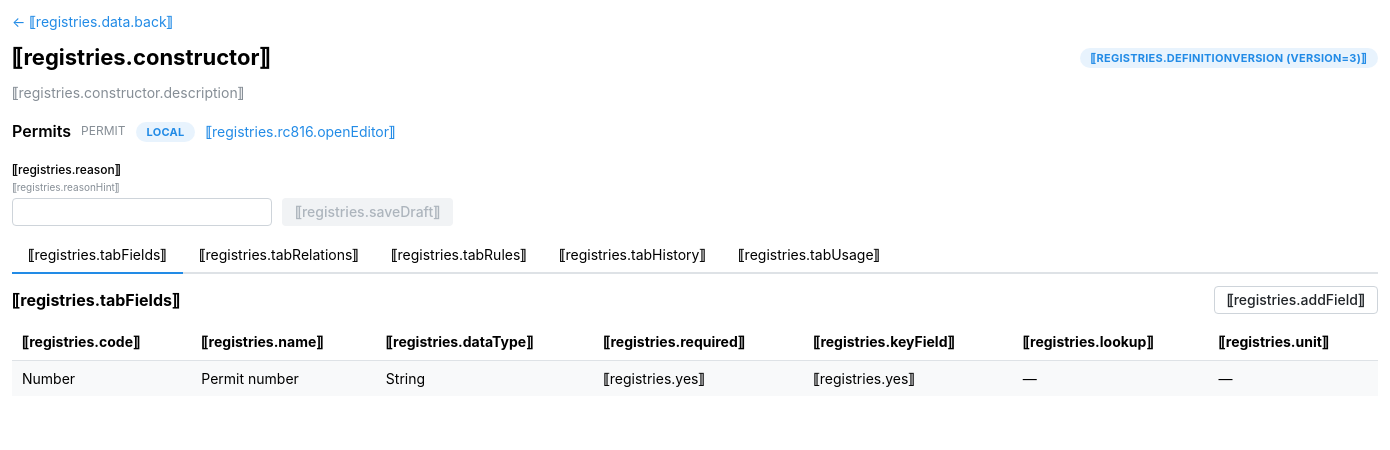
Test: RegistryConstructorPage: вкладки › історія й «де використано» мають коротке пояснення, порожні зв'язки — що робити
Click the tab "⟦registries.tabRelations⟧".
click(279, 256)  # box [183,238,375,274]
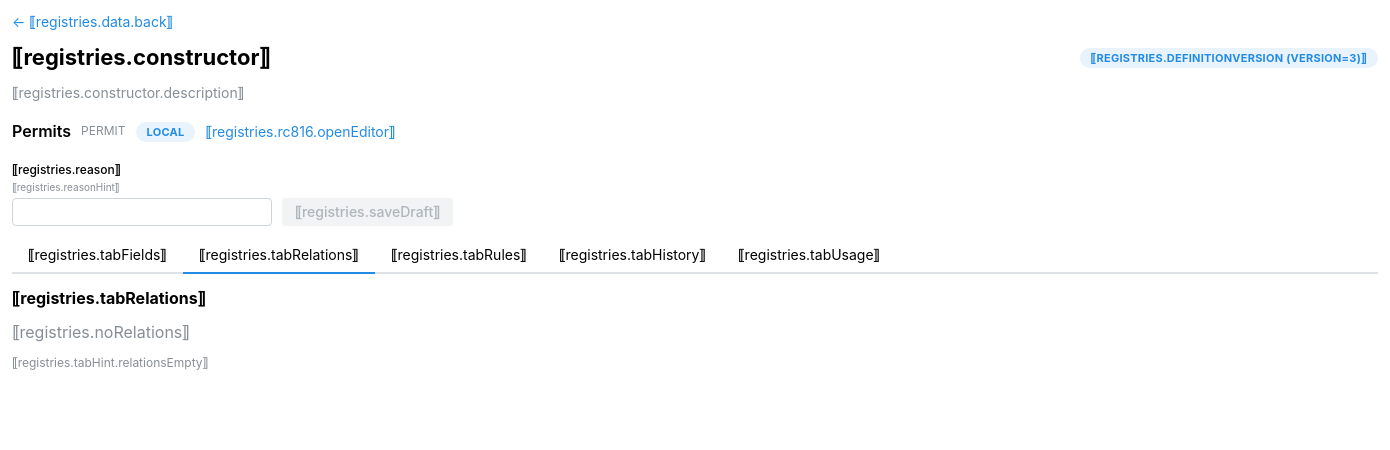
Now the text "⟦registries.tabHint.relationsEmpty⟧" is shown, box [12,355,208,370]
Click the tab "⟦registries.tabHistory⟧".
click(632, 256)  # box [543,238,722,274]
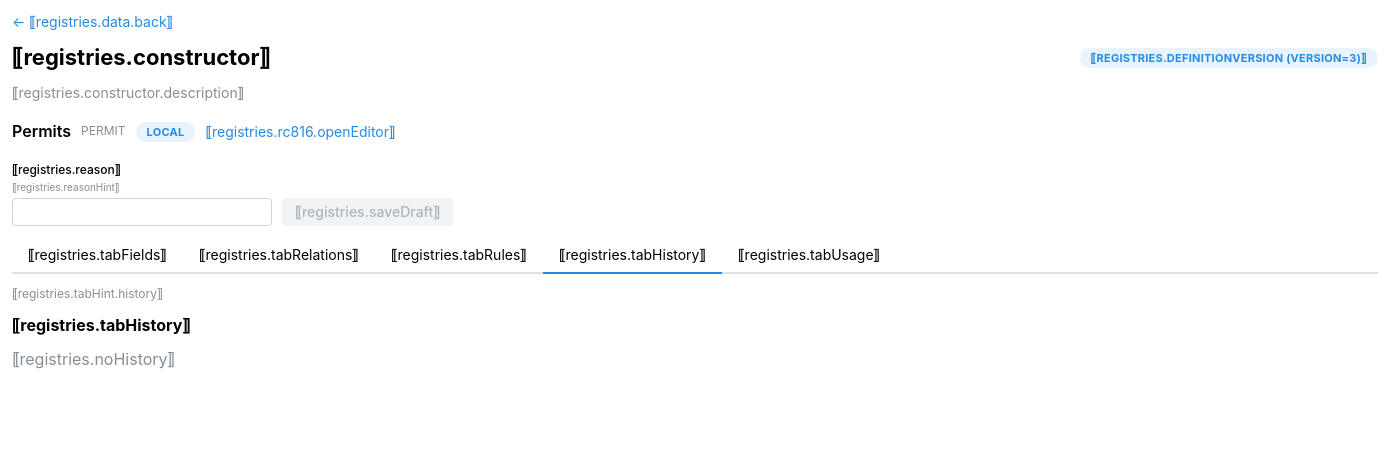
Now the text "⟦registries.tabHint.history⟧" is shown, box [12,286,163,301]
Click the tab "⟦registries.tabUsage⟧".
click(809, 256)  # box [722,238,896,274]
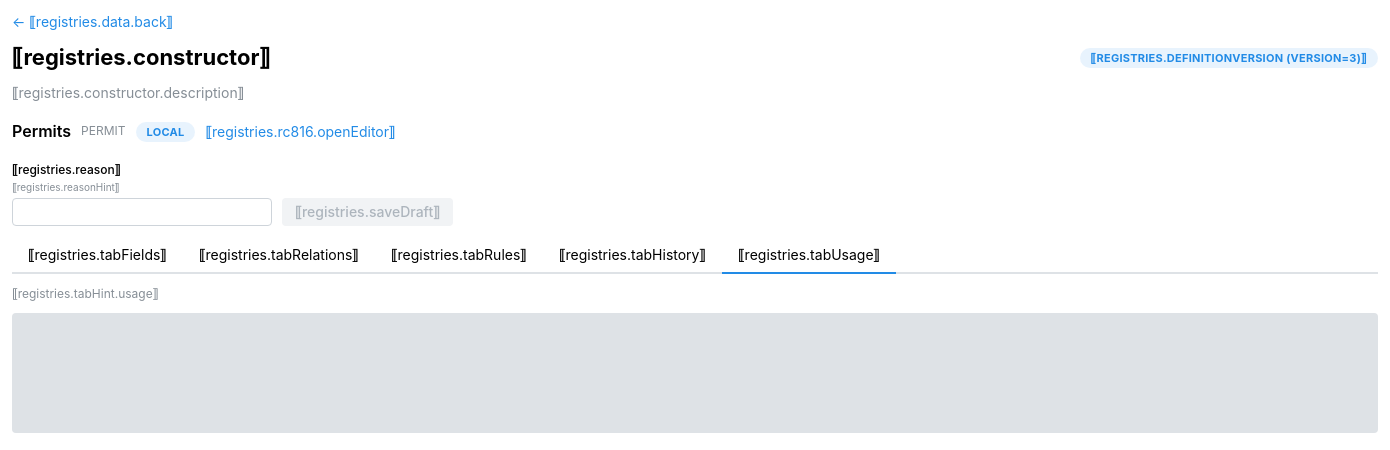
Now the text "⟦registries.tabHint.usage⟧" is shown, box [12,286,158,301]
Click the tab "⟦registries.tabRules⟧".
click(459, 256)  # box [375,238,543,274]
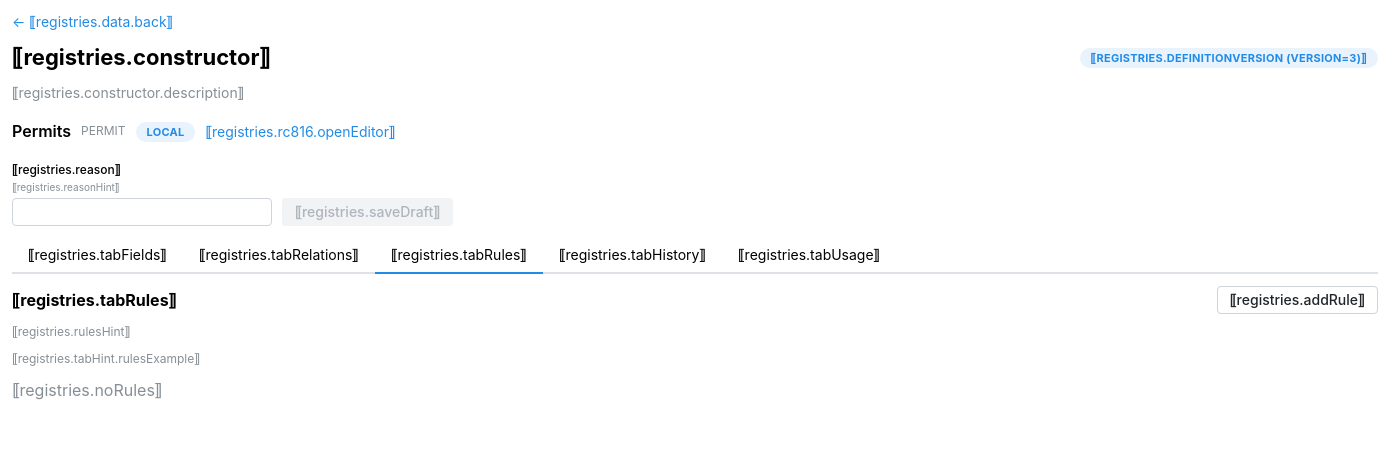
Now the text "⟦registries.tabHint.rulesExample⟧" is shown, box [12,351,200,366]
